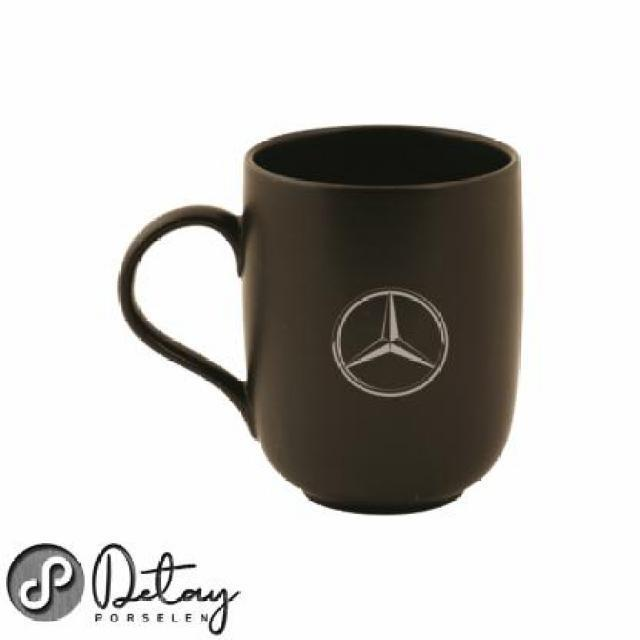taza: (117, 127, 528, 516)
